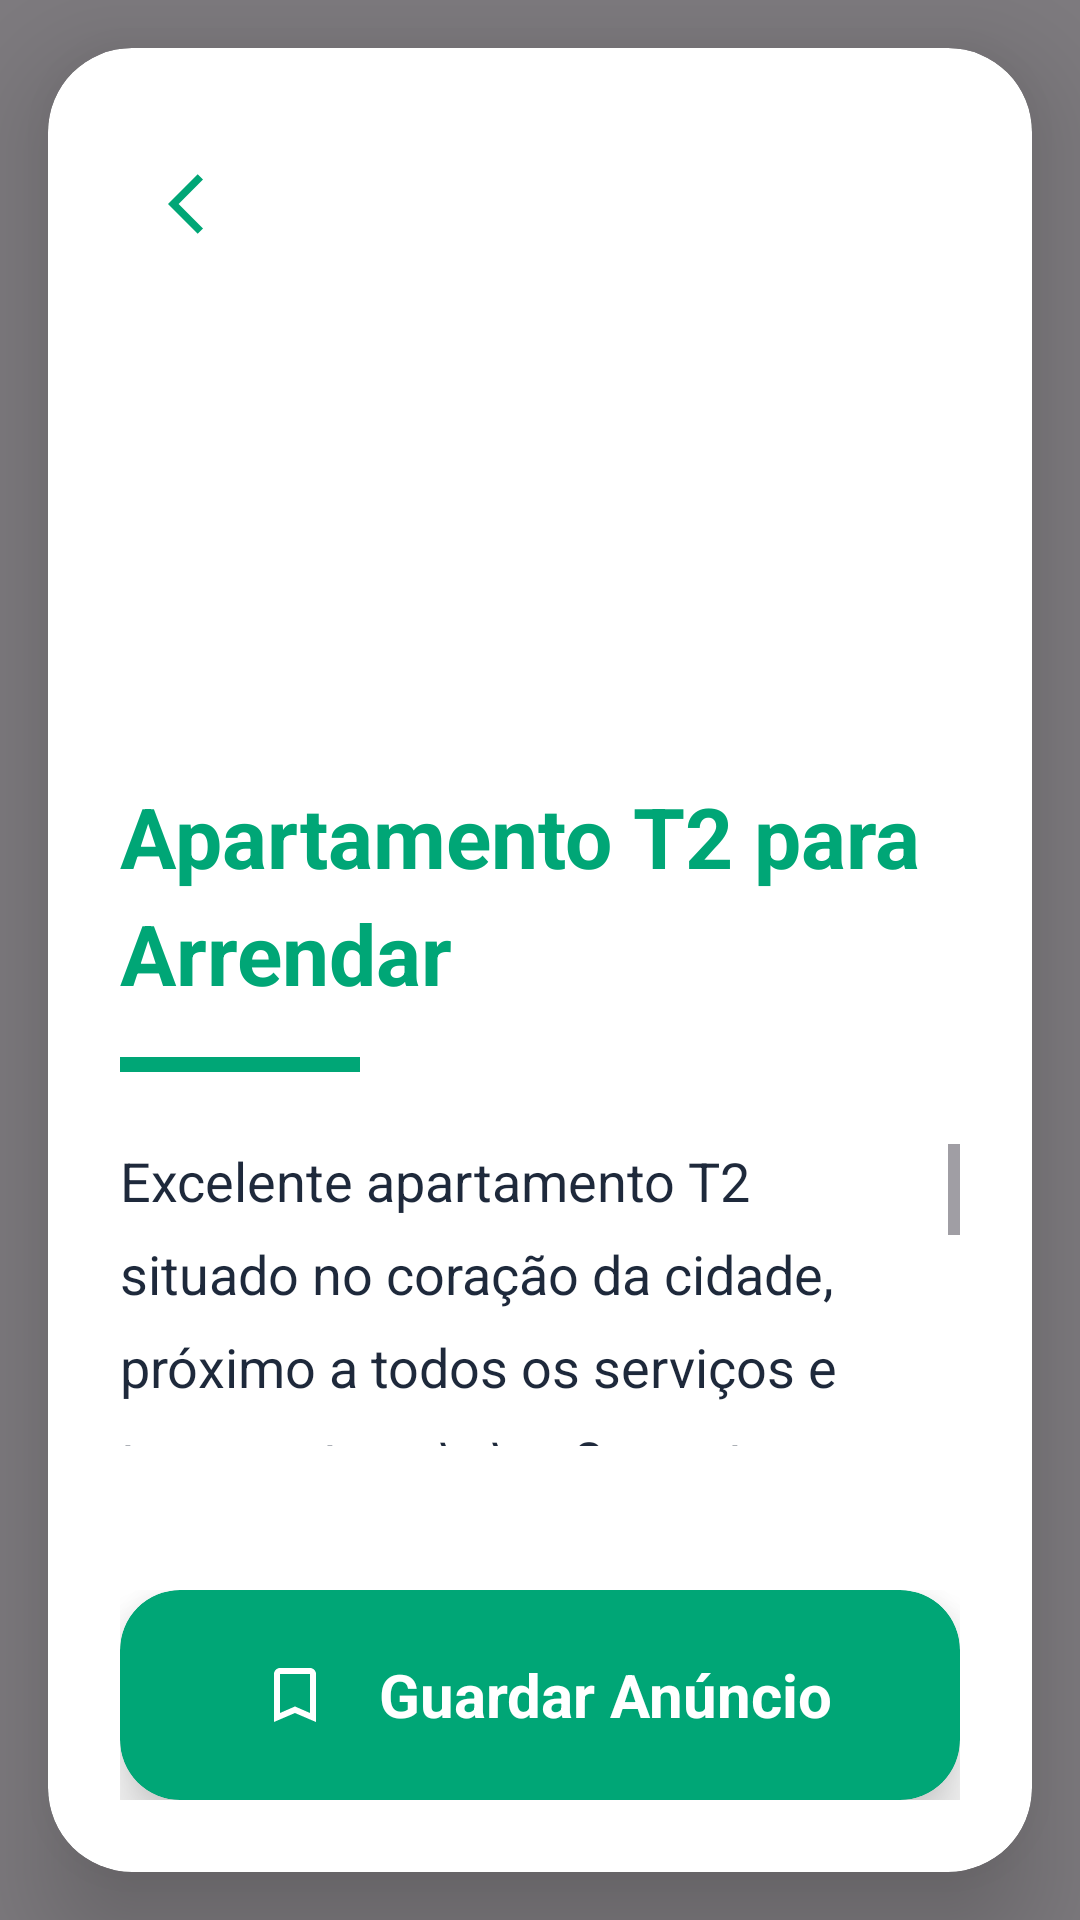

Where icons sit on this 1080px×1920px app screen, as {"x1": x1, "y1": y1, "x2": x2, "y2": y2}:
Voltar: {"x1": 168, "y1": 174, "x2": 203, "y2": 234}
